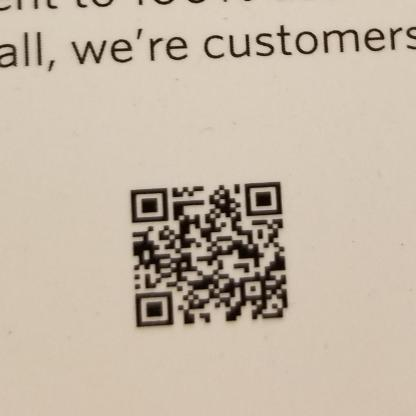qr: (123, 179, 293, 326)
